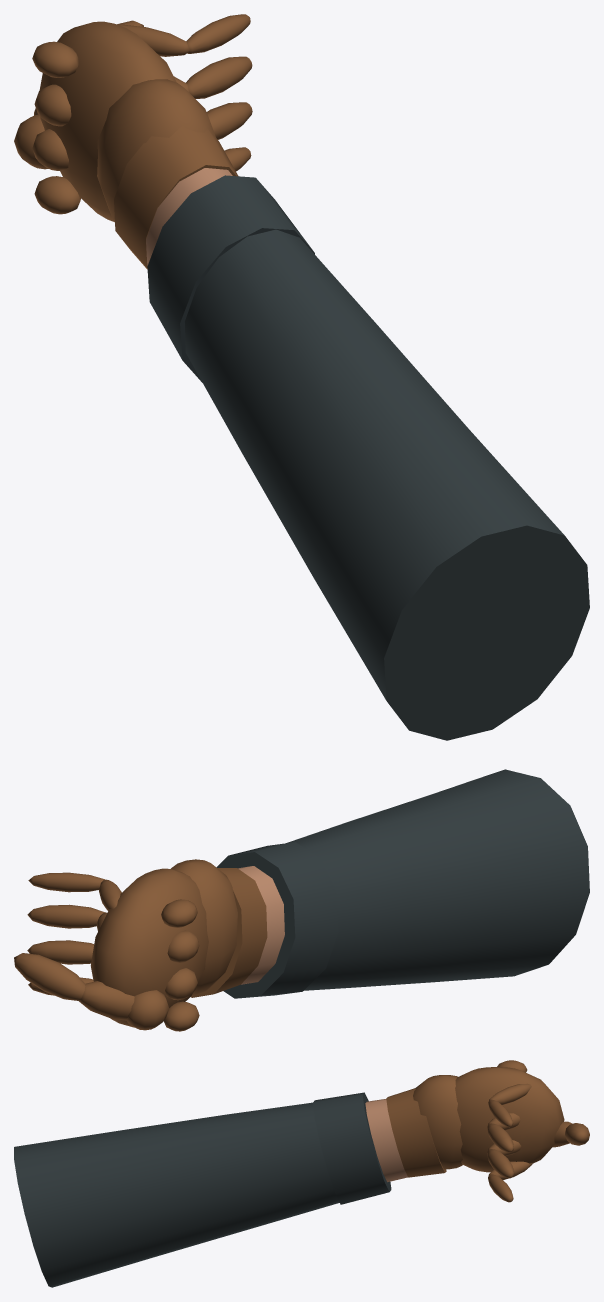
Rendered from fp_hand_left.glb.
3 views of the same model, one above another, from view 1: azimuth 30°, elevation 25°; view 2: azimuth 150°, elevation 25°; view 3: azimuth 270°, elevation 25° (orthographic). The views are drawn at different scales.
Parts seen in each view (by area): view 1: fp_hand_left; view 2: fp_hand_left; view 3: fp_hand_left.
Boxes of the visible parts, left/top/right/bottom form: fp_hand_left: left=14, top=14, right=589, bottom=740; fp_hand_left: left=14, top=769, right=589, bottom=1031; fp_hand_left: left=14, top=1060, right=589, bottom=1287.
Bounding box in the file's own units: 0.1543 × 0.2014 × 0.4672.
